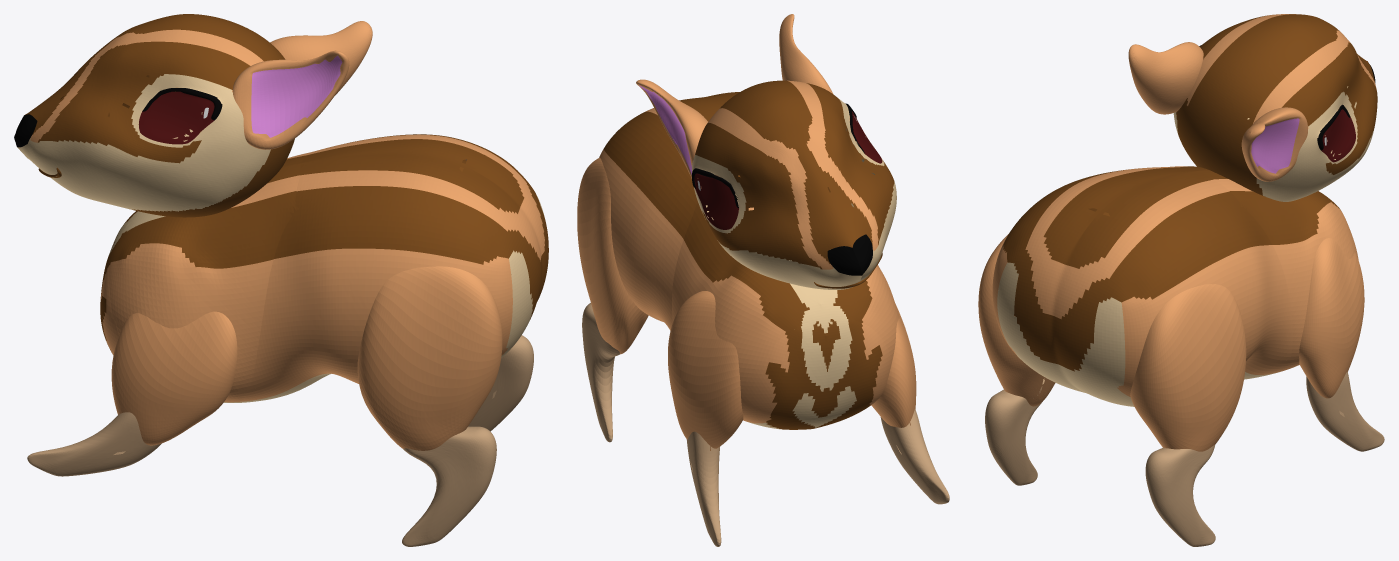
The model's file is kanchil3.glb.
3 views of the same model, side by side, from view 1: azimuth 30°, elevation 25°; view 2: azimuth 150°, elevation 25°; view 3: azimuth 270°, elevation 25° (orthographic). The views are drawn at different scales.
Visible parts, largest first — view 1: kanchil3; view 2: kanchil3; view 3: kanchil3.
Boxes of the visible parts, bbox=[...] form: kanchil3: bbox=[14, 14, 548, 546]; kanchil3: bbox=[577, 14, 949, 546]; kanchil3: bbox=[978, 14, 1384, 546].
Size of the model in its own units: 66.8 by 65.31 by 56.02.
